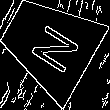N_NW: (19, 14, 79, 74)
